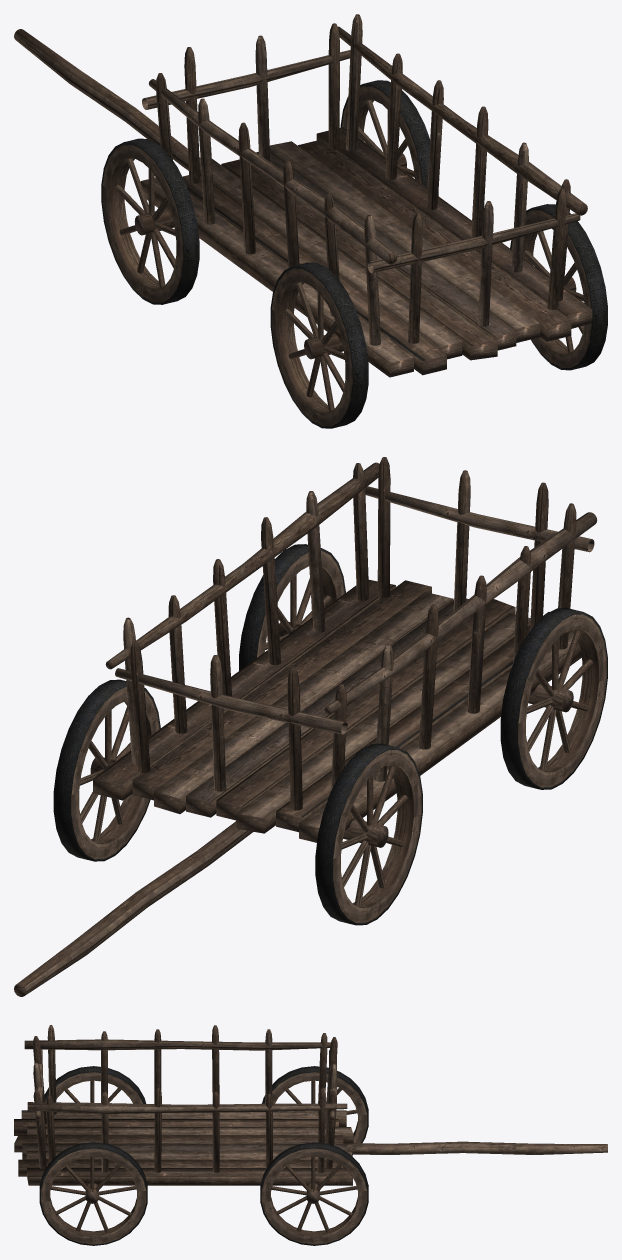
Rendered from Wagon-02.fbx.
3 views of the same model, one above another, from view 1: azimuth 30°, elevation 25°; view 2: azimuth 150°, elevation 25°; view 3: azimuth 270°, elevation 25° (orthographic). The views are drawn at different scales.
Parts seen in each view (by area): view 1: Cylinder_001, Cube; view 2: Cylinder_001, Cube; view 3: Cylinder_001, Cube.
Boxes of the visible parts, box(x1,y1,x2,y2) form: Cylinder_001: box(14, 14, 592, 377); Cube: box(101, 80, 607, 428); Cylinder_001: box(14, 457, 597, 996); Cube: box(53, 544, 607, 925); Cylinder_001: box(14, 1025, 607, 1185); Cube: box(39, 1066, 368, 1245).
Size of the model in its own units: 7.63 by 6.32 by 22.96.
1 material, 1 textured.
